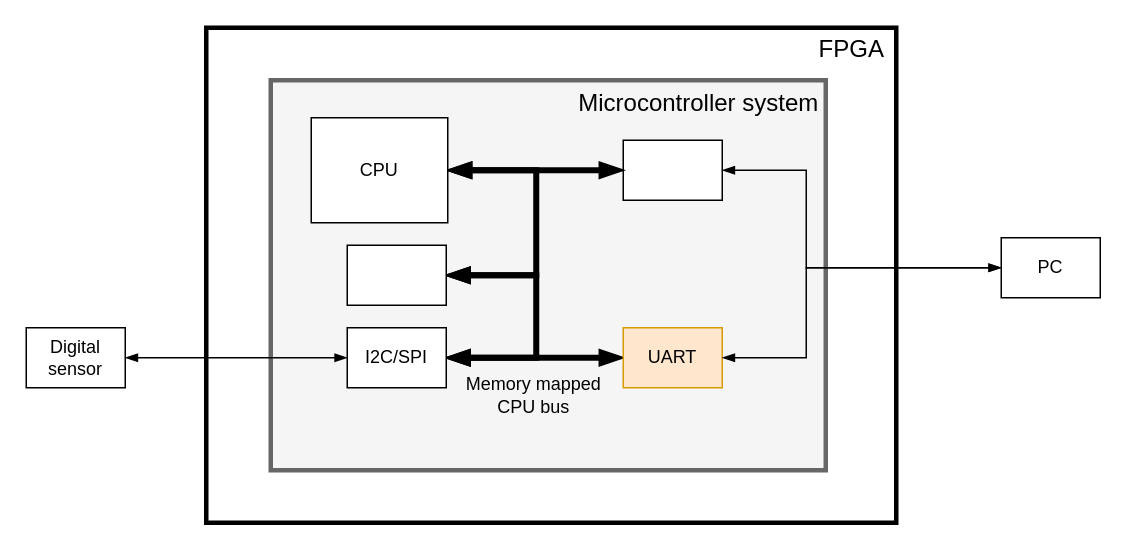
Some shapes in this 1127 by 551 pixel diagram are drawn without their labels. Here are the shapes that lost their labels. From the top down, the centre of each, then its label:
pixel 672 169: JTAG
pixel 396 274: RAM
